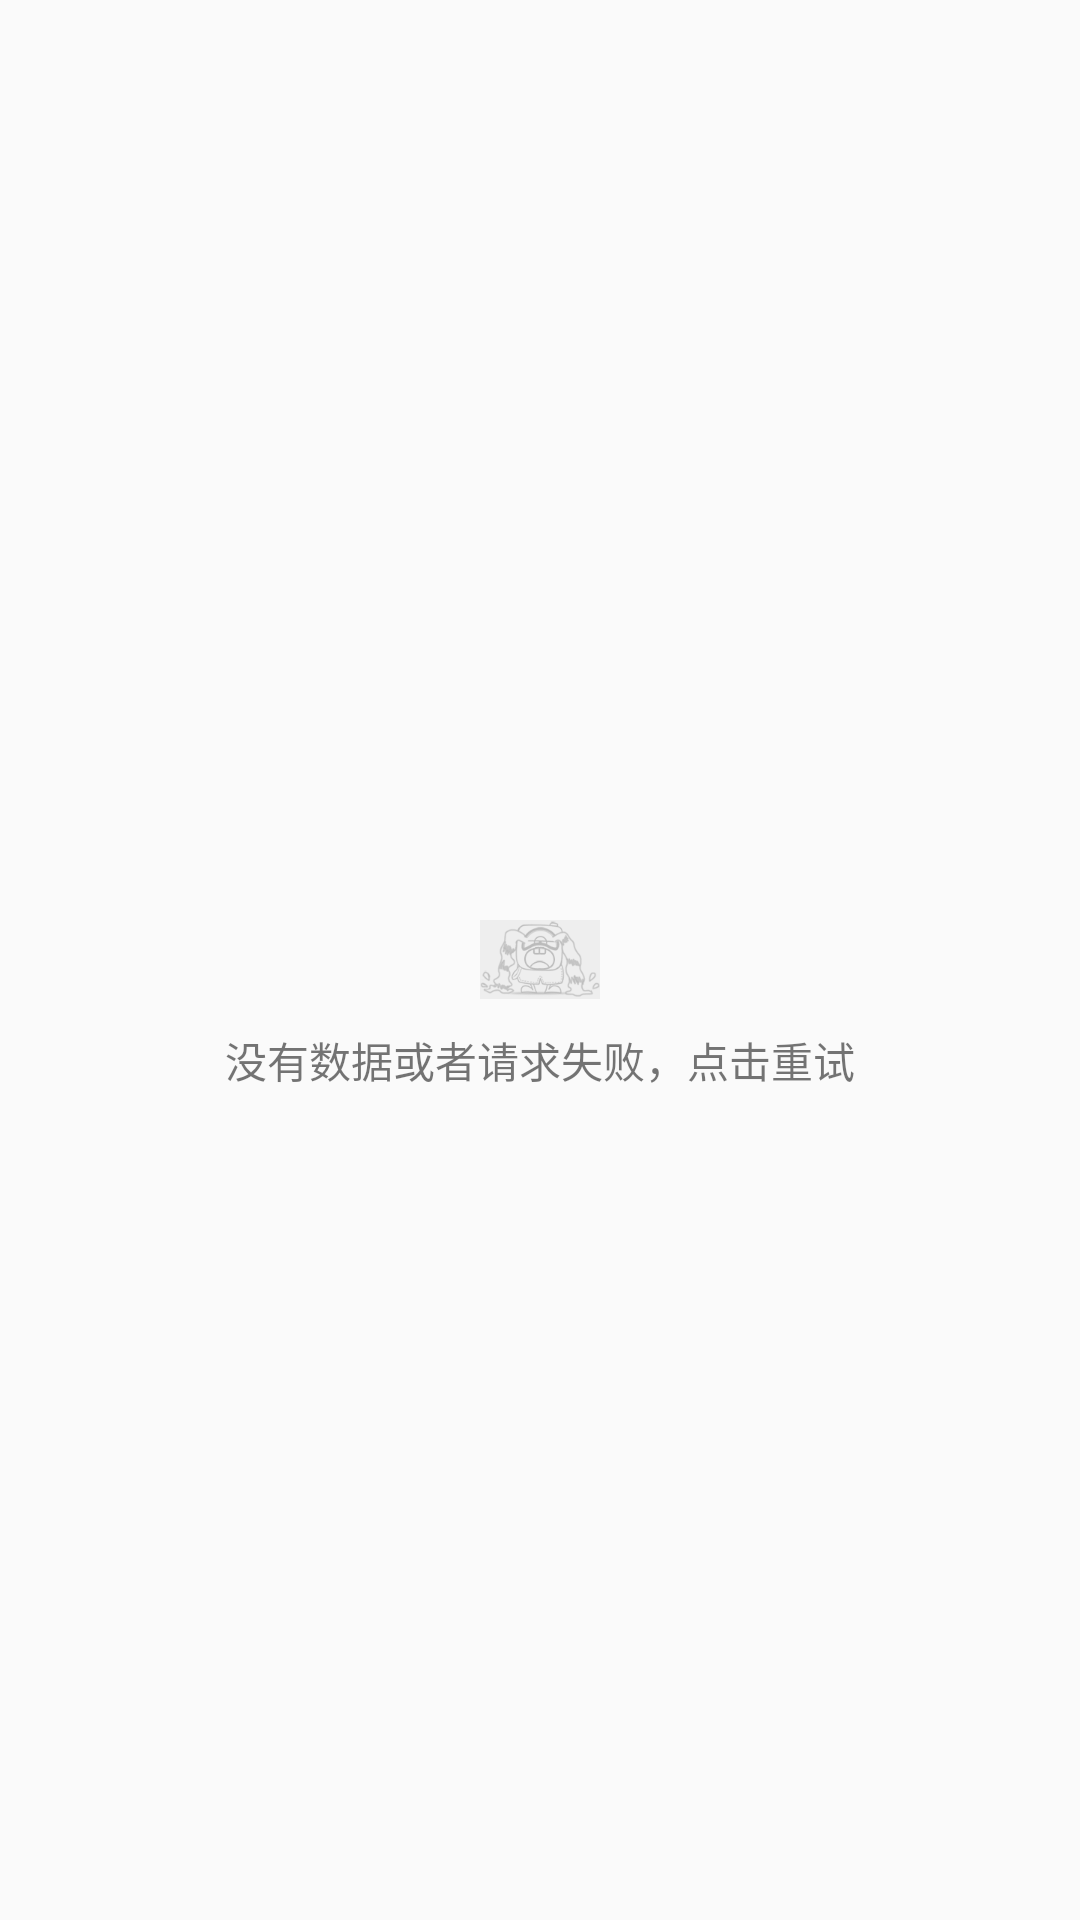

Screen size 1080 × 1920. Icon name, then its box in pixels as region(x1, y1, x2, y2):
empty data: region(480, 920, 600, 999)
